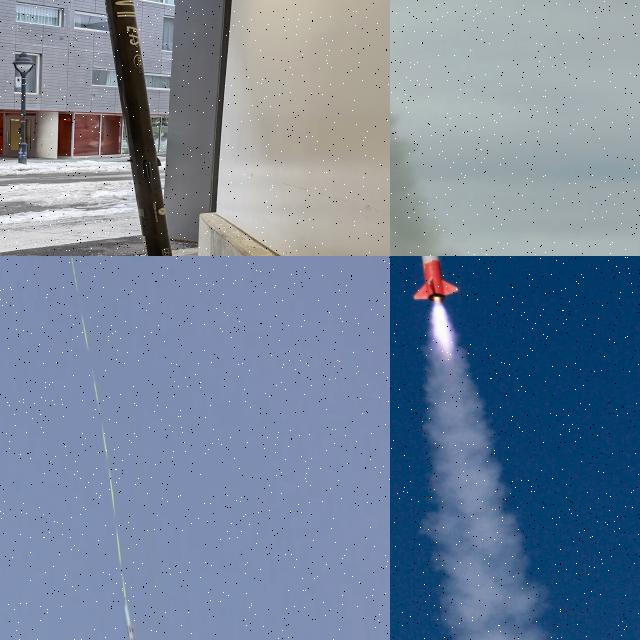Rocket: (104, 0, 173, 256), (410, 256, 460, 304), (124, 602, 146, 640)
